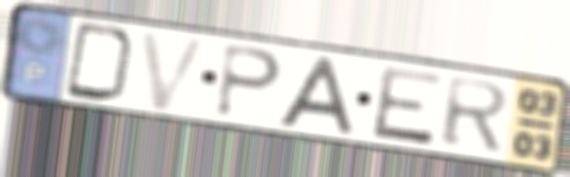A: (273, 54, 359, 139)
D: (62, 18, 140, 105)
E: (368, 64, 446, 148)
P: (212, 41, 286, 121)
R: (438, 74, 514, 154)
V: (136, 28, 214, 114)
